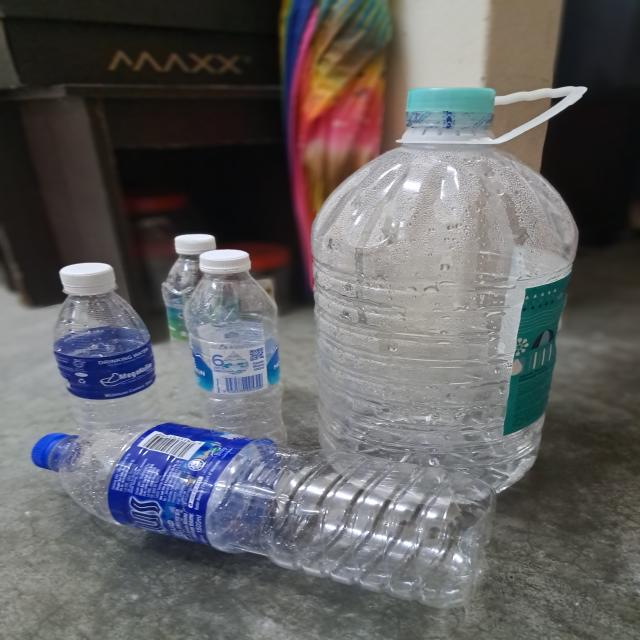plastic bottle: (312, 128, 580, 501), (56, 418, 496, 608), (186, 271, 290, 450), (53, 293, 164, 444), (163, 255, 221, 398)
plastic bottle cap: (403, 88, 496, 115), (59, 262, 118, 295), (32, 432, 71, 472), (199, 250, 252, 272), (174, 234, 217, 254)
